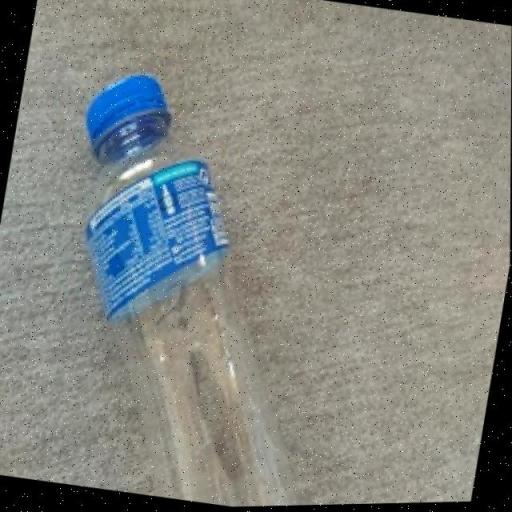plastic: (86, 76, 297, 508)
